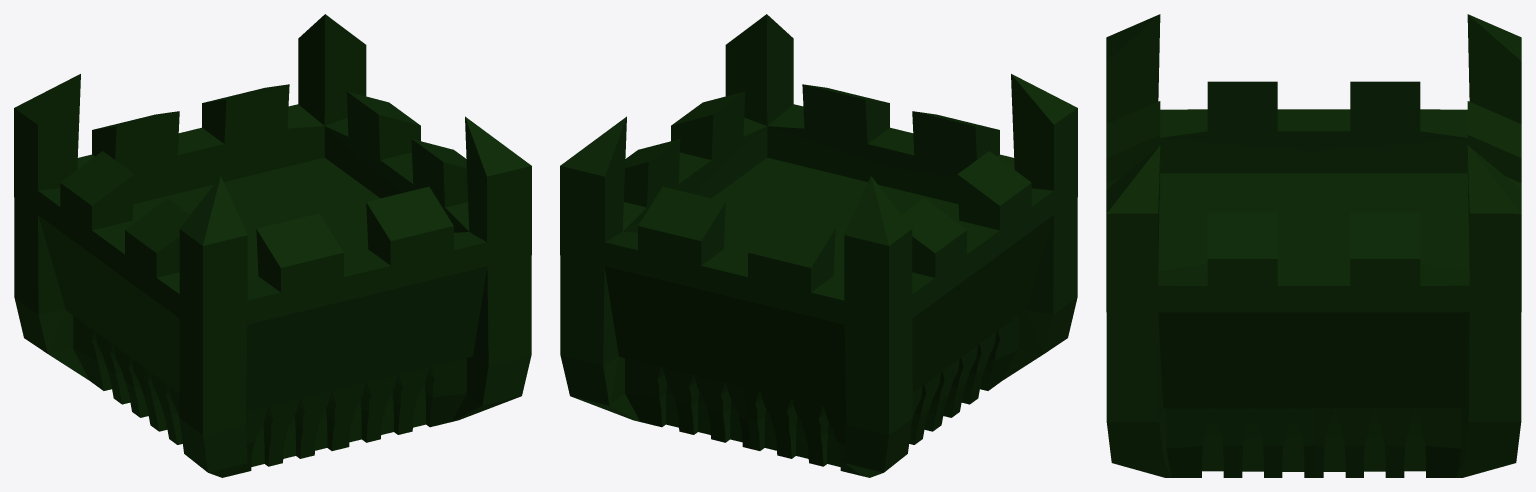
The model's file is square-top-1.fbx.
The picture shows the model from 3 angles, left to right: view 1: azimuth 30°, elevation 25°; view 2: azimuth 150°, elevation 25°; view 3: azimuth 270°, elevation 25°; orthographic projection. The views are drawn at different scales.
Parts seen in each view (by area): view 1: square-top-1; view 2: square-top-1; view 3: square-top-1.
Boxes of the visible parts, <box> form: square-top-1: <box>14,14,531,477</box>; square-top-1: <box>560,14,1077,477</box>; square-top-1: <box>1106,14,1521,477</box>.
Size of the model in its own units: 2.2 by 1.95 by 2.19.
